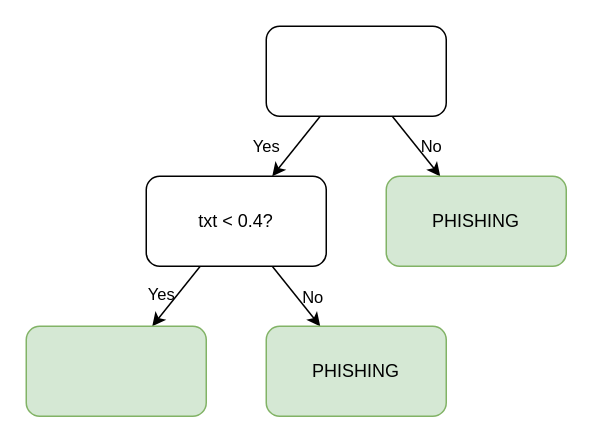
Image size: 593x443. Some labels were removed from this diagram. The shapes that lost their labels are listed below. From the top down, each one's centre as x and y in pixels, then its label:
point 355,70: img < 0.8?
point 115,370: NOT RELATED
